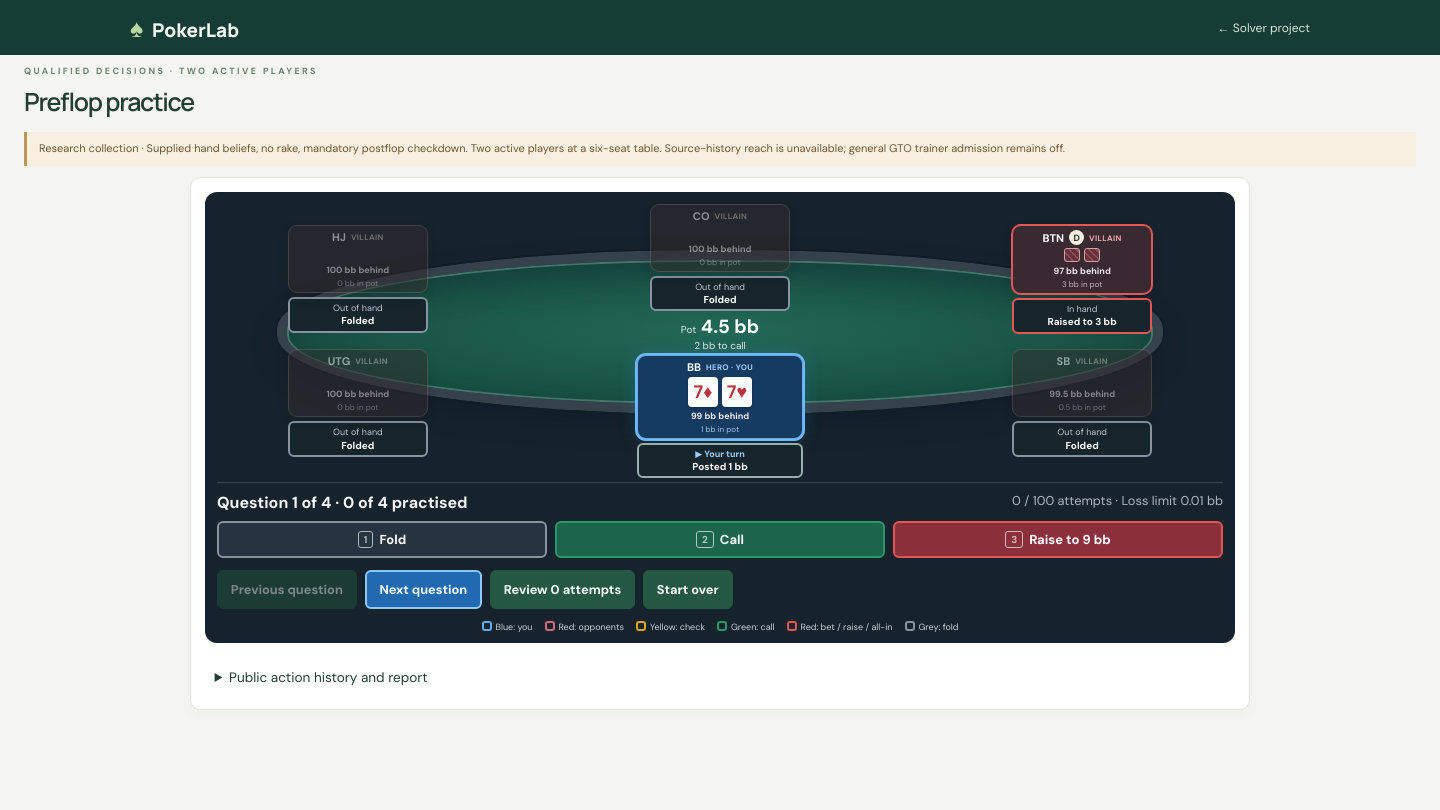
navigates without clearing attempts and restores each question's feedback
The width and height of the screenshot is (1440, 810).
Click the button "2 Call" at (720, 539), box [555,521,885,558]
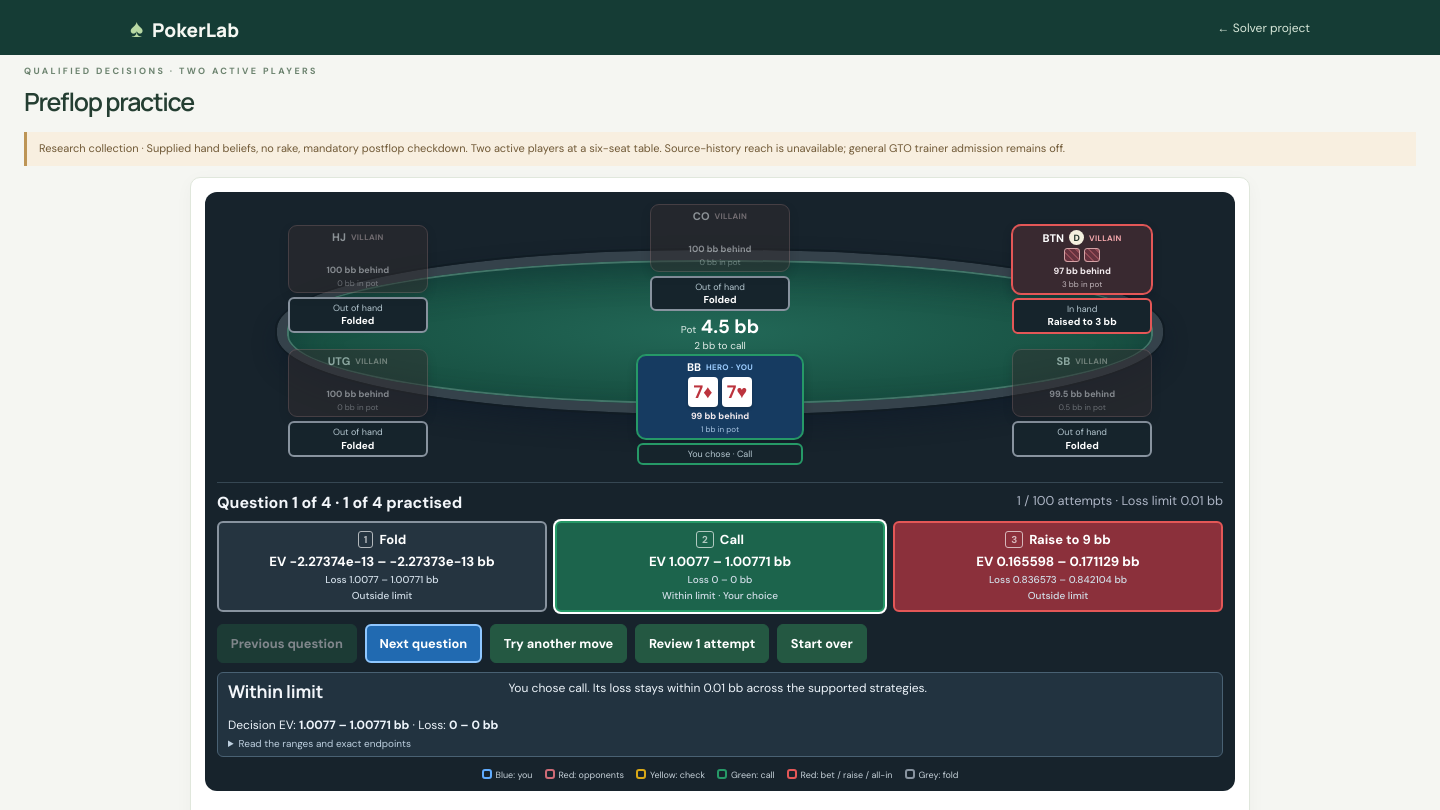
Expected: the heading "Within limit" is shown, [228,679,323,703]
Click the button "Next question" at (423, 644), box [365,624,482,663]
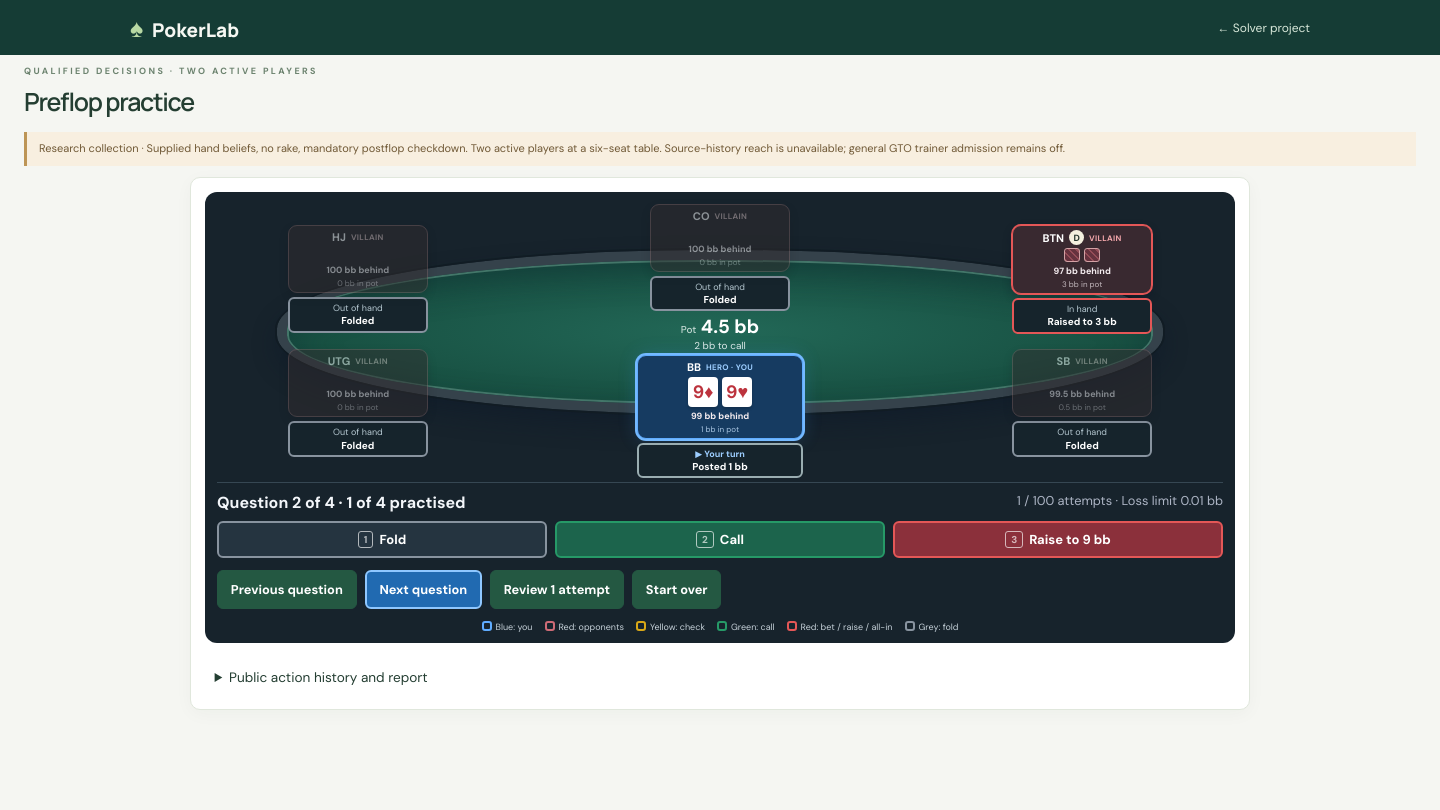
Expected: the button "2 Call" does not show "EV", [555,521,885,558]
Expected: the element named "Your cards" reads "9♦ 9♥", [688,377,752,407]
Click the button "3 Raise to 9 bb" at (1058, 539), box [893,521,1223,558]
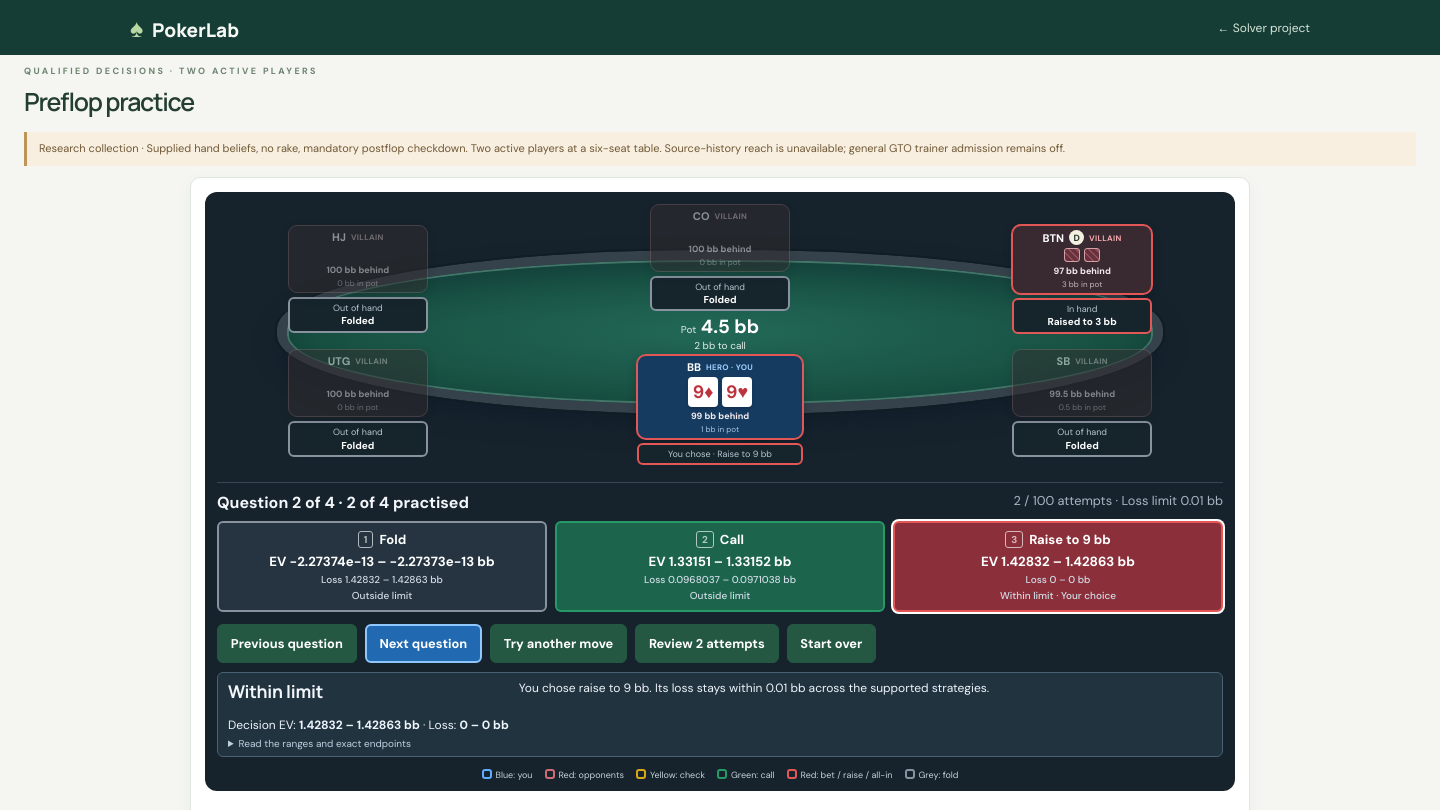
Expected: the heading "Within limit" is shown, [228,679,323,703]
Expected: the button "Call" shows "Outside limit", [555,521,885,612]
Expected: the text "Question 2 of 4" shows "2 of 4 practised", [217,492,469,513]
Click the button "Previous question" at (287, 644), box [217,624,357,663]
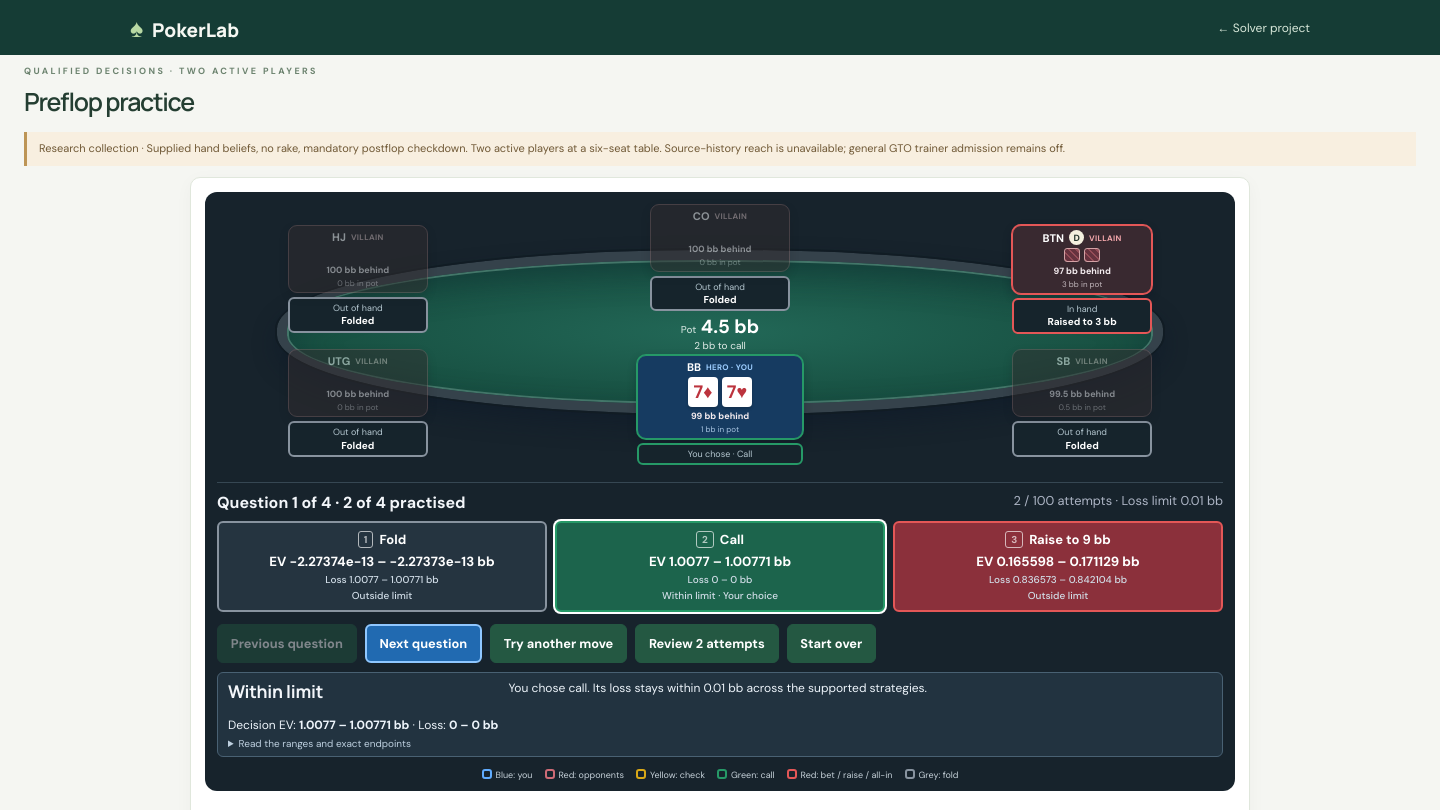
Expected: the button "Call" is disabled, [555,521,885,612]
Expected: the element named "Your cards" reads "7♦ 7♥", [688,377,752,407]
Expected: the button "Call" shows "Within limit", [555,521,885,612]
